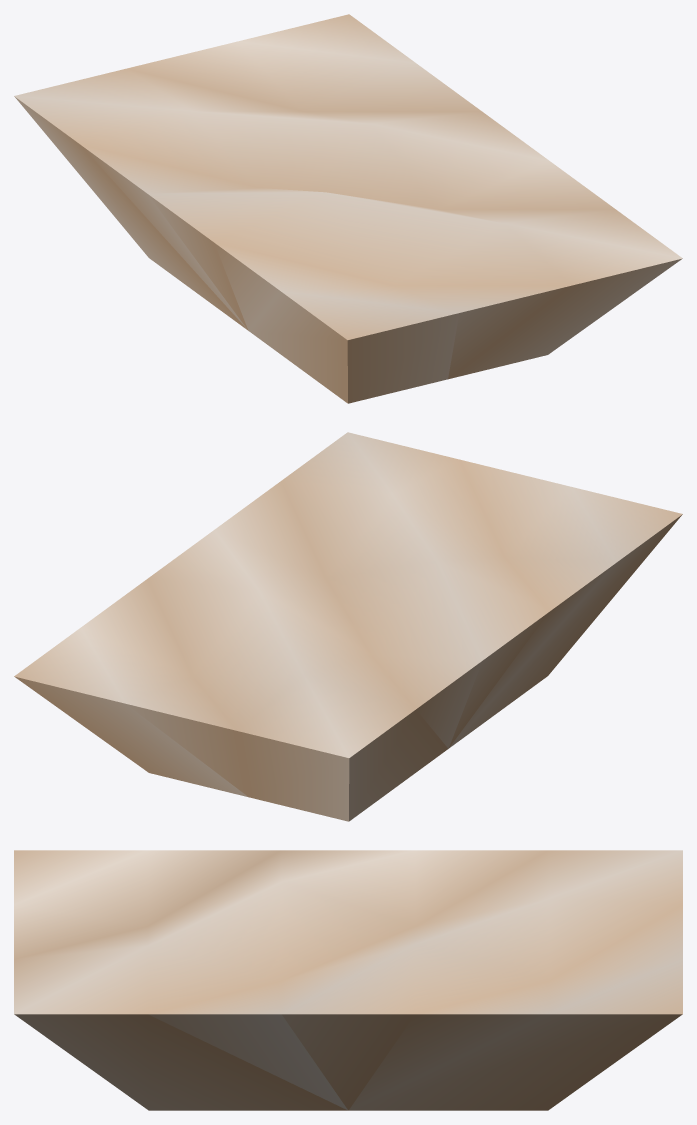
File: icecream_container_icecream_vanilla.obj
3 renders of one model, top to bottom at view 1: azimuth 30°, elevation 25°; view 2: azimuth 150°, elevation 25°; view 3: azimuth 270°, elevation 25°, orthographic.
Visible parts, largest first — view 1: icecream_container_icecream_vanilla_Cube.392; view 2: icecream_container_icecream_vanilla_Cube.392; view 3: icecream_container_icecream_vanilla_Cube.392.
Boxes of the visible parts, left/top/right/bottom form: icecream_container_icecream_vanilla_Cube.392: left=14, top=14, right=682, bottom=403; icecream_container_icecream_vanilla_Cube.392: left=14, top=432, right=682, bottom=821; icecream_container_icecream_vanilla_Cube.392: left=14, top=850, right=682, bottom=1110.
Bounding box in the file's own units: 0.8144 × 0.3534 × 1.4.
Materials: 1 (1 with a texture image).
